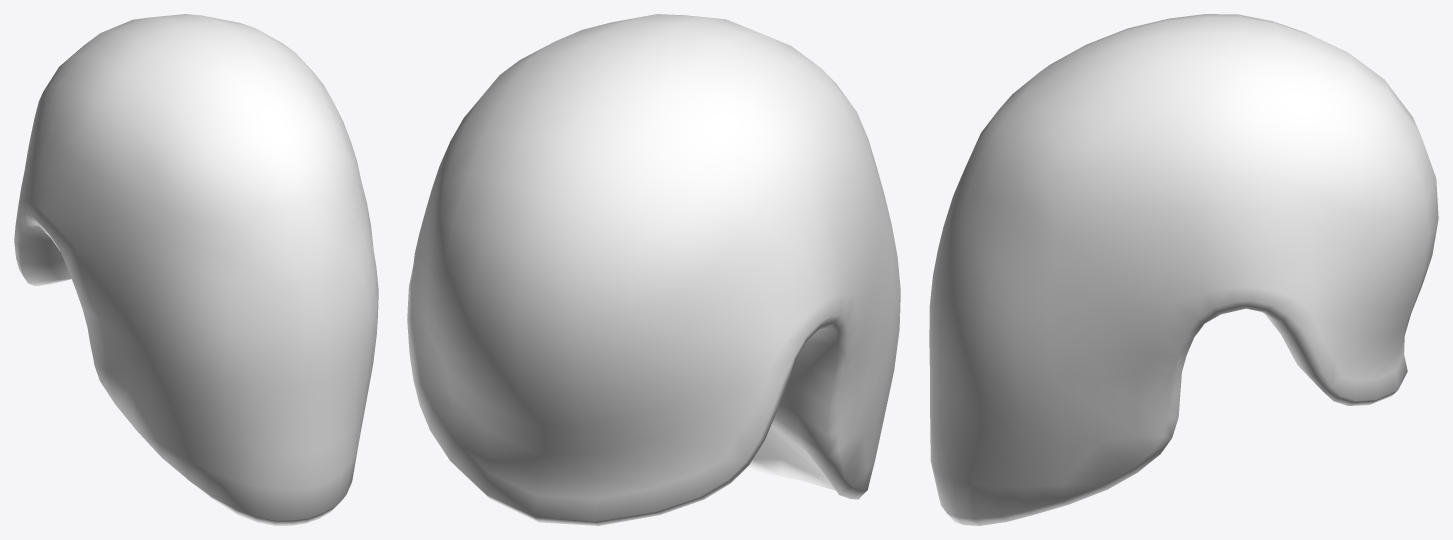
Rendered from SurvivorMale_Head_Mask_NoFace_LOD0.glb.
The picture shows the model from 3 angles, left to right: view 1: azimuth 30°, elevation 25°; view 2: azimuth 150°, elevation 25°; view 3: azimuth 270°, elevation 25°; orthographic projection. The views are drawn at different scales.
Parts seen in each view (by area): view 1: Hoodie; view 2: Hoodie; view 3: Hoodie.
Boxes of the visible parts, bbox=[...] form: Hoodie: bbox=[14, 14, 378, 525]; Hoodie: bbox=[407, 14, 900, 525]; Hoodie: bbox=[929, 14, 1438, 525].
Size of the model in its own units: 0.1858 by 0.2507 by 0.2433.
1 material, 1 textured.
